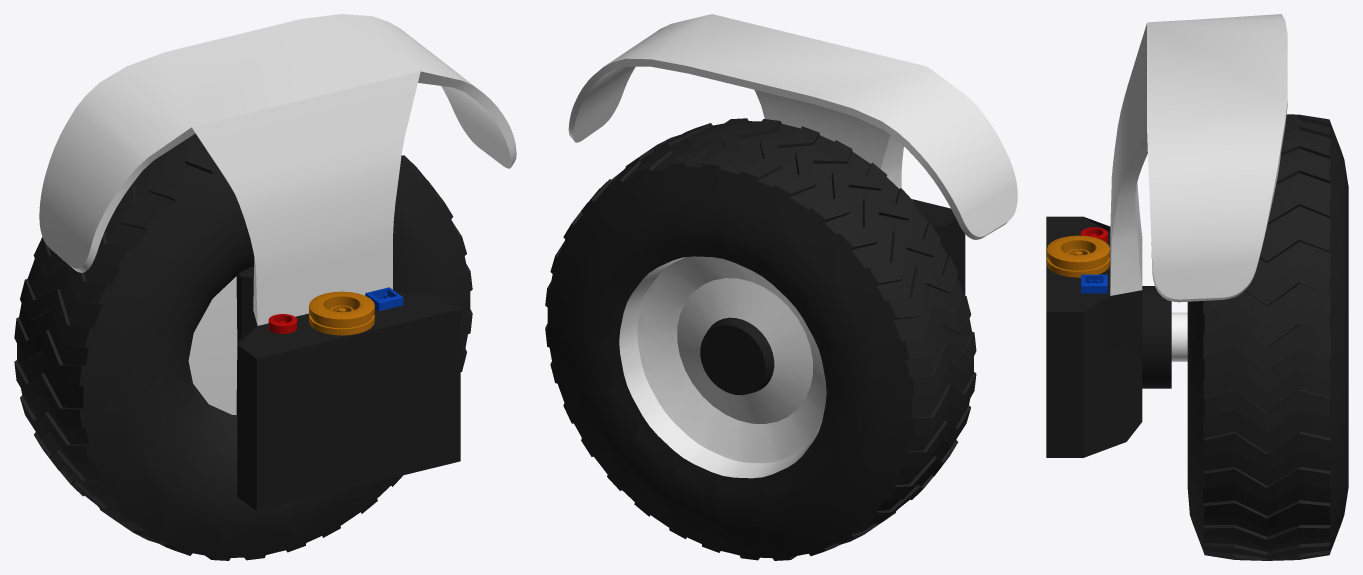
File: Wheel.gltf
3 views of the same model, side by side, from view 1: azimuth 30°, elevation 25°; view 2: azimuth 150°, elevation 25°; view 3: azimuth 270°, elevation 25° (orthographic). The views are drawn at different scales.
Visible parts, largest first — view 1: Box, Torus, suspension-cylinder; view 2: Torus, Box; view 3: Box, Torus.
Boxes of the visible parts, x1=… form: Box: x1=39, y1=14, x2=516, y2=510; Torus: x1=14, y1=133, x2=472, y2=560; suspension-cylinder: x1=236, y1=266, x2=254, y2=414; Torus: x1=545, y1=118, x2=976, y2=560; Box: x1=568, y1=14, x2=1017, y2=295; Box: x1=1046, y1=14, x2=1287, y2=457; Torus: x1=1187, y1=114, x2=1348, y2=560.
Size of the model in its own units: 1.07 by 1.16 by 0.6744.
